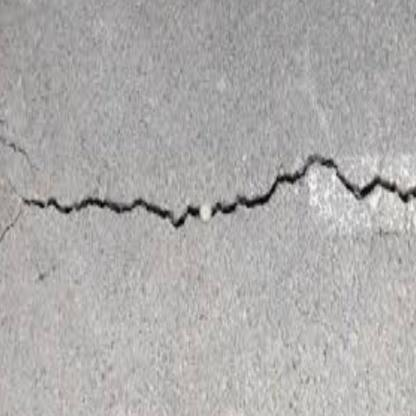Cracks: (0, 151, 416, 253), (0, 111, 7, 129)
